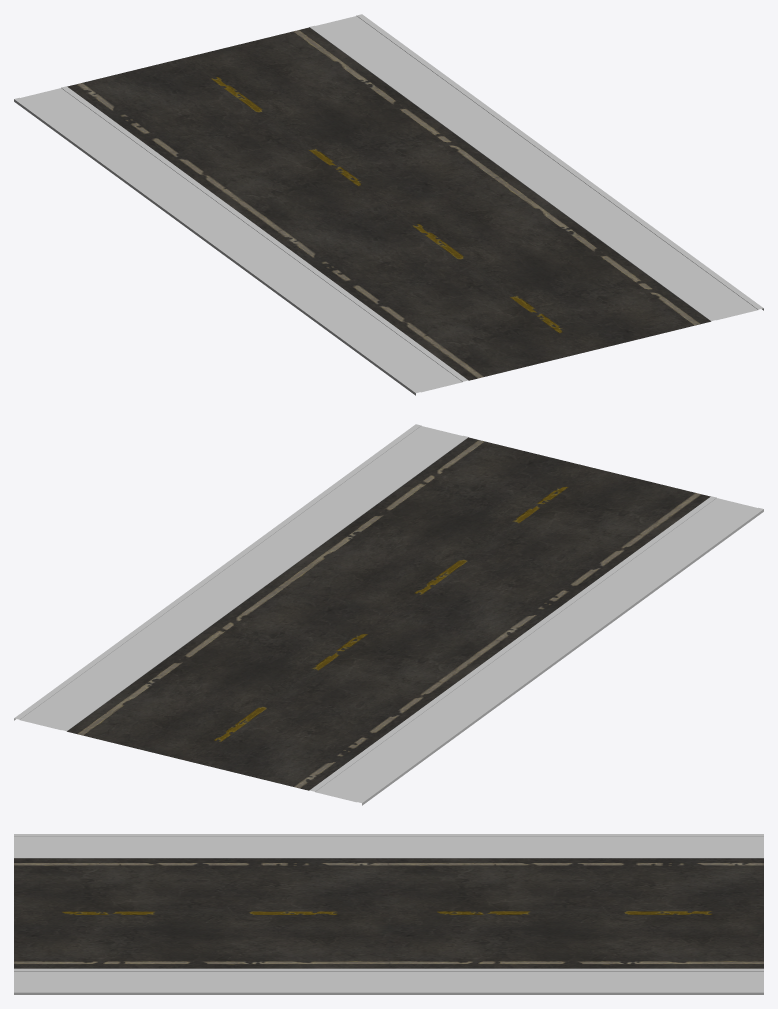
Rendered from Road_Streight.fbx.
3 renders of one model, top to bottom at view 1: azimuth 30°, elevation 25°; view 2: azimuth 150°, elevation 25°; view 3: azimuth 270°, elevation 25°, orthographic. The views are drawn at different scales.
Parts seen in each view (by area): view 1: Road_Streight; view 2: Road_Streight; view 3: Road_Streight.
Part boxes in pixels (x1,y1,x2,y2): Road_Streight: (14, 14, 763, 395); Road_Streight: (14, 424, 763, 805); Road_Streight: (14, 834, 763, 994).
Bounding box in the file's own units: 1500 × 10.58 × 3000.
